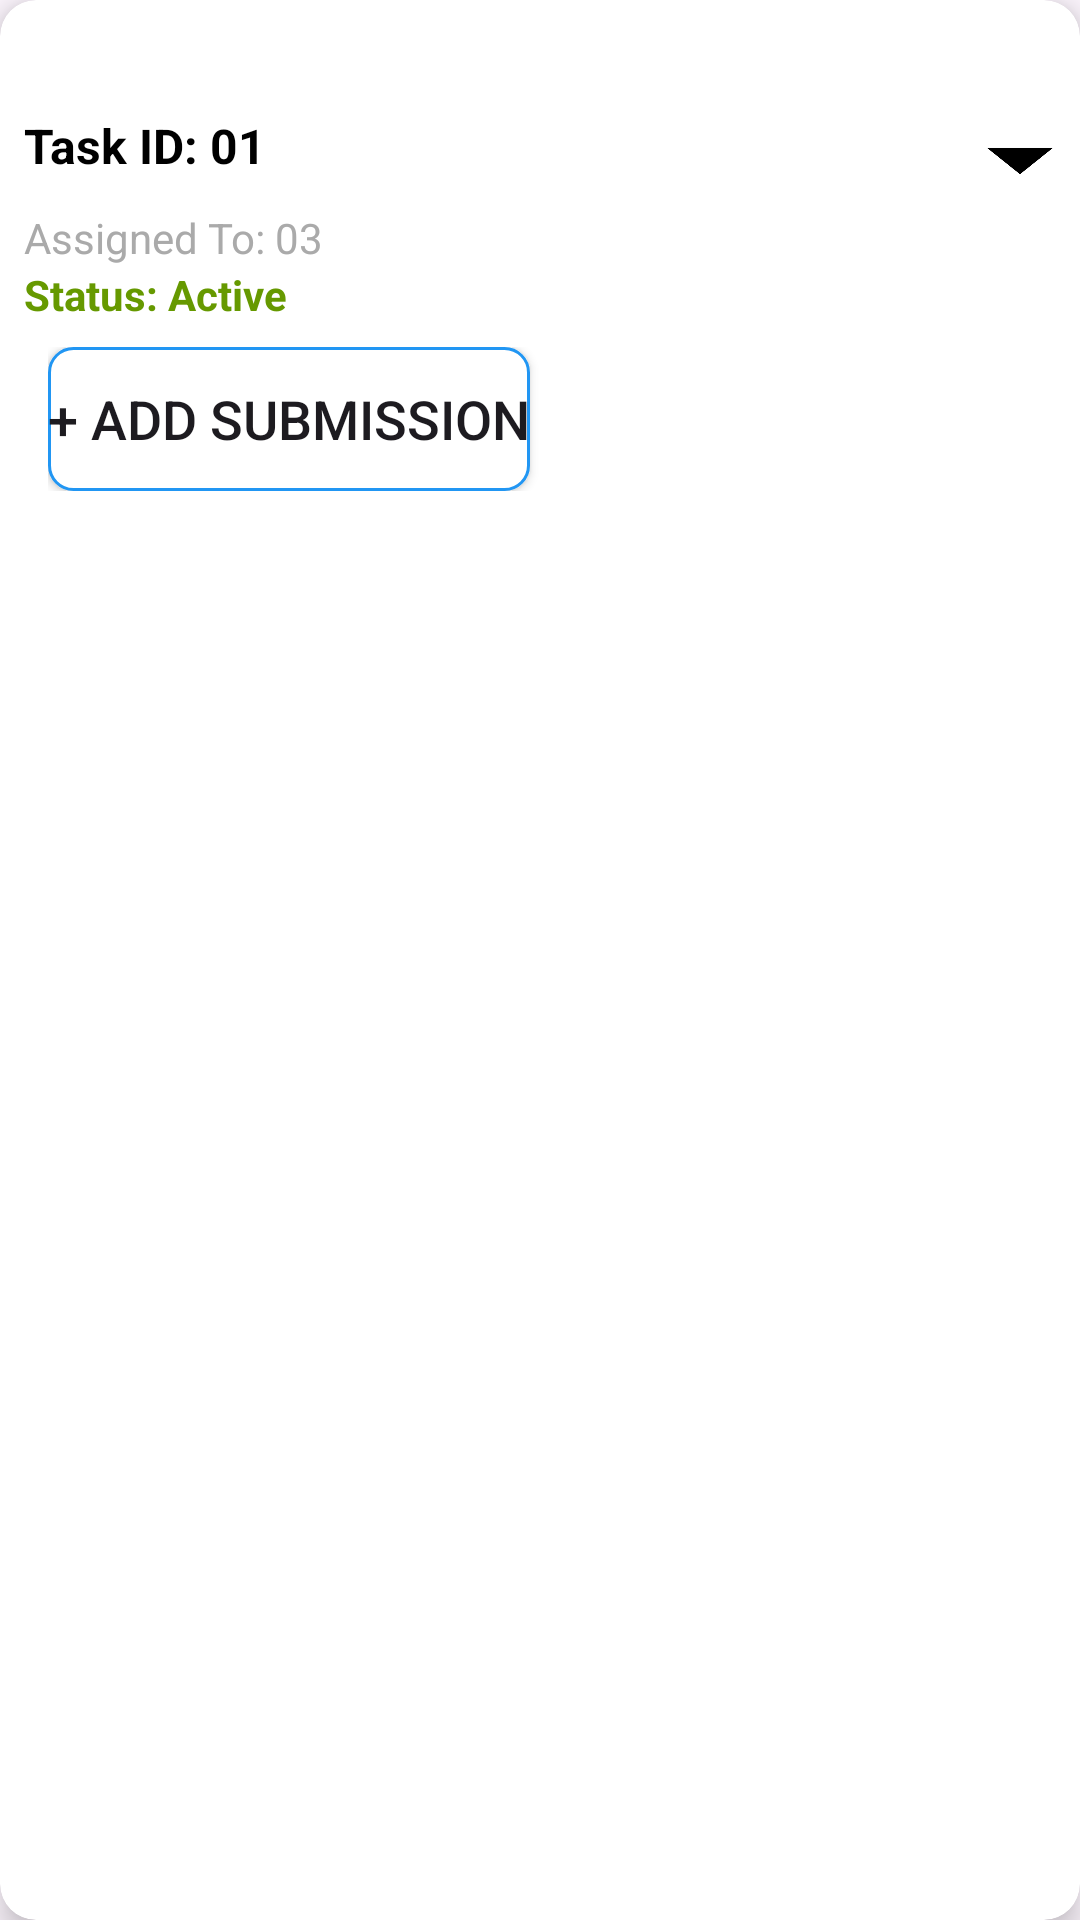

Named icons in this screenshot (1080*1920) and their centers, (x,y):
arrow down: (1020,161)
